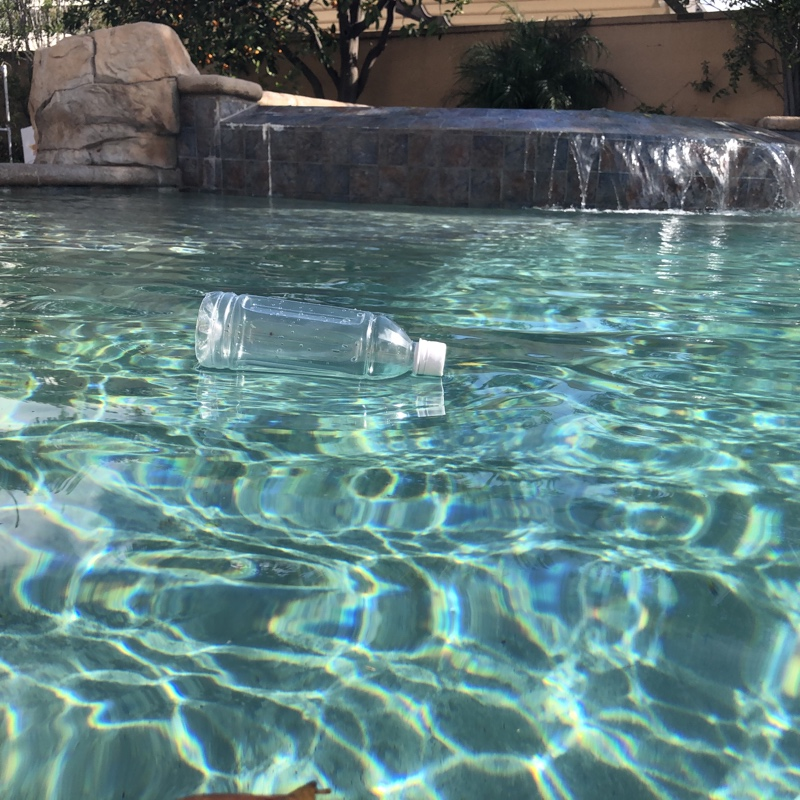Plastic Bottle: (190, 283, 449, 389)
